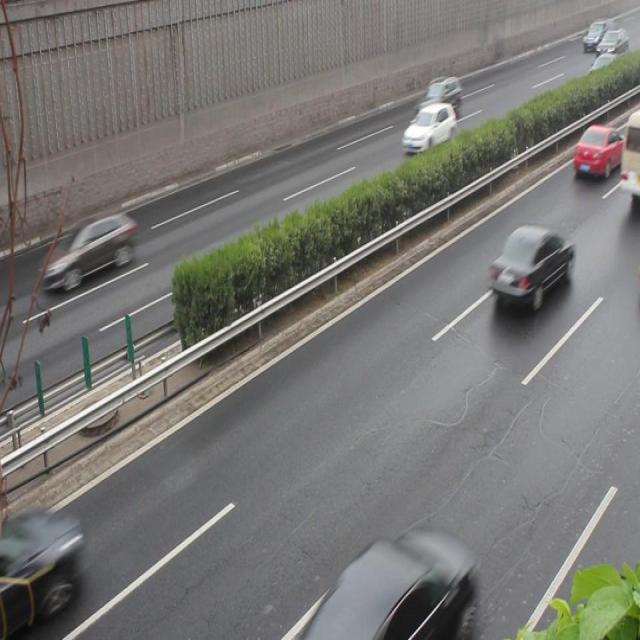car: (312, 530, 473, 640), (1, 511, 80, 640), (46, 208, 136, 292), (488, 224, 574, 309), (572, 123, 624, 178), (402, 104, 454, 154), (415, 76, 462, 121)
